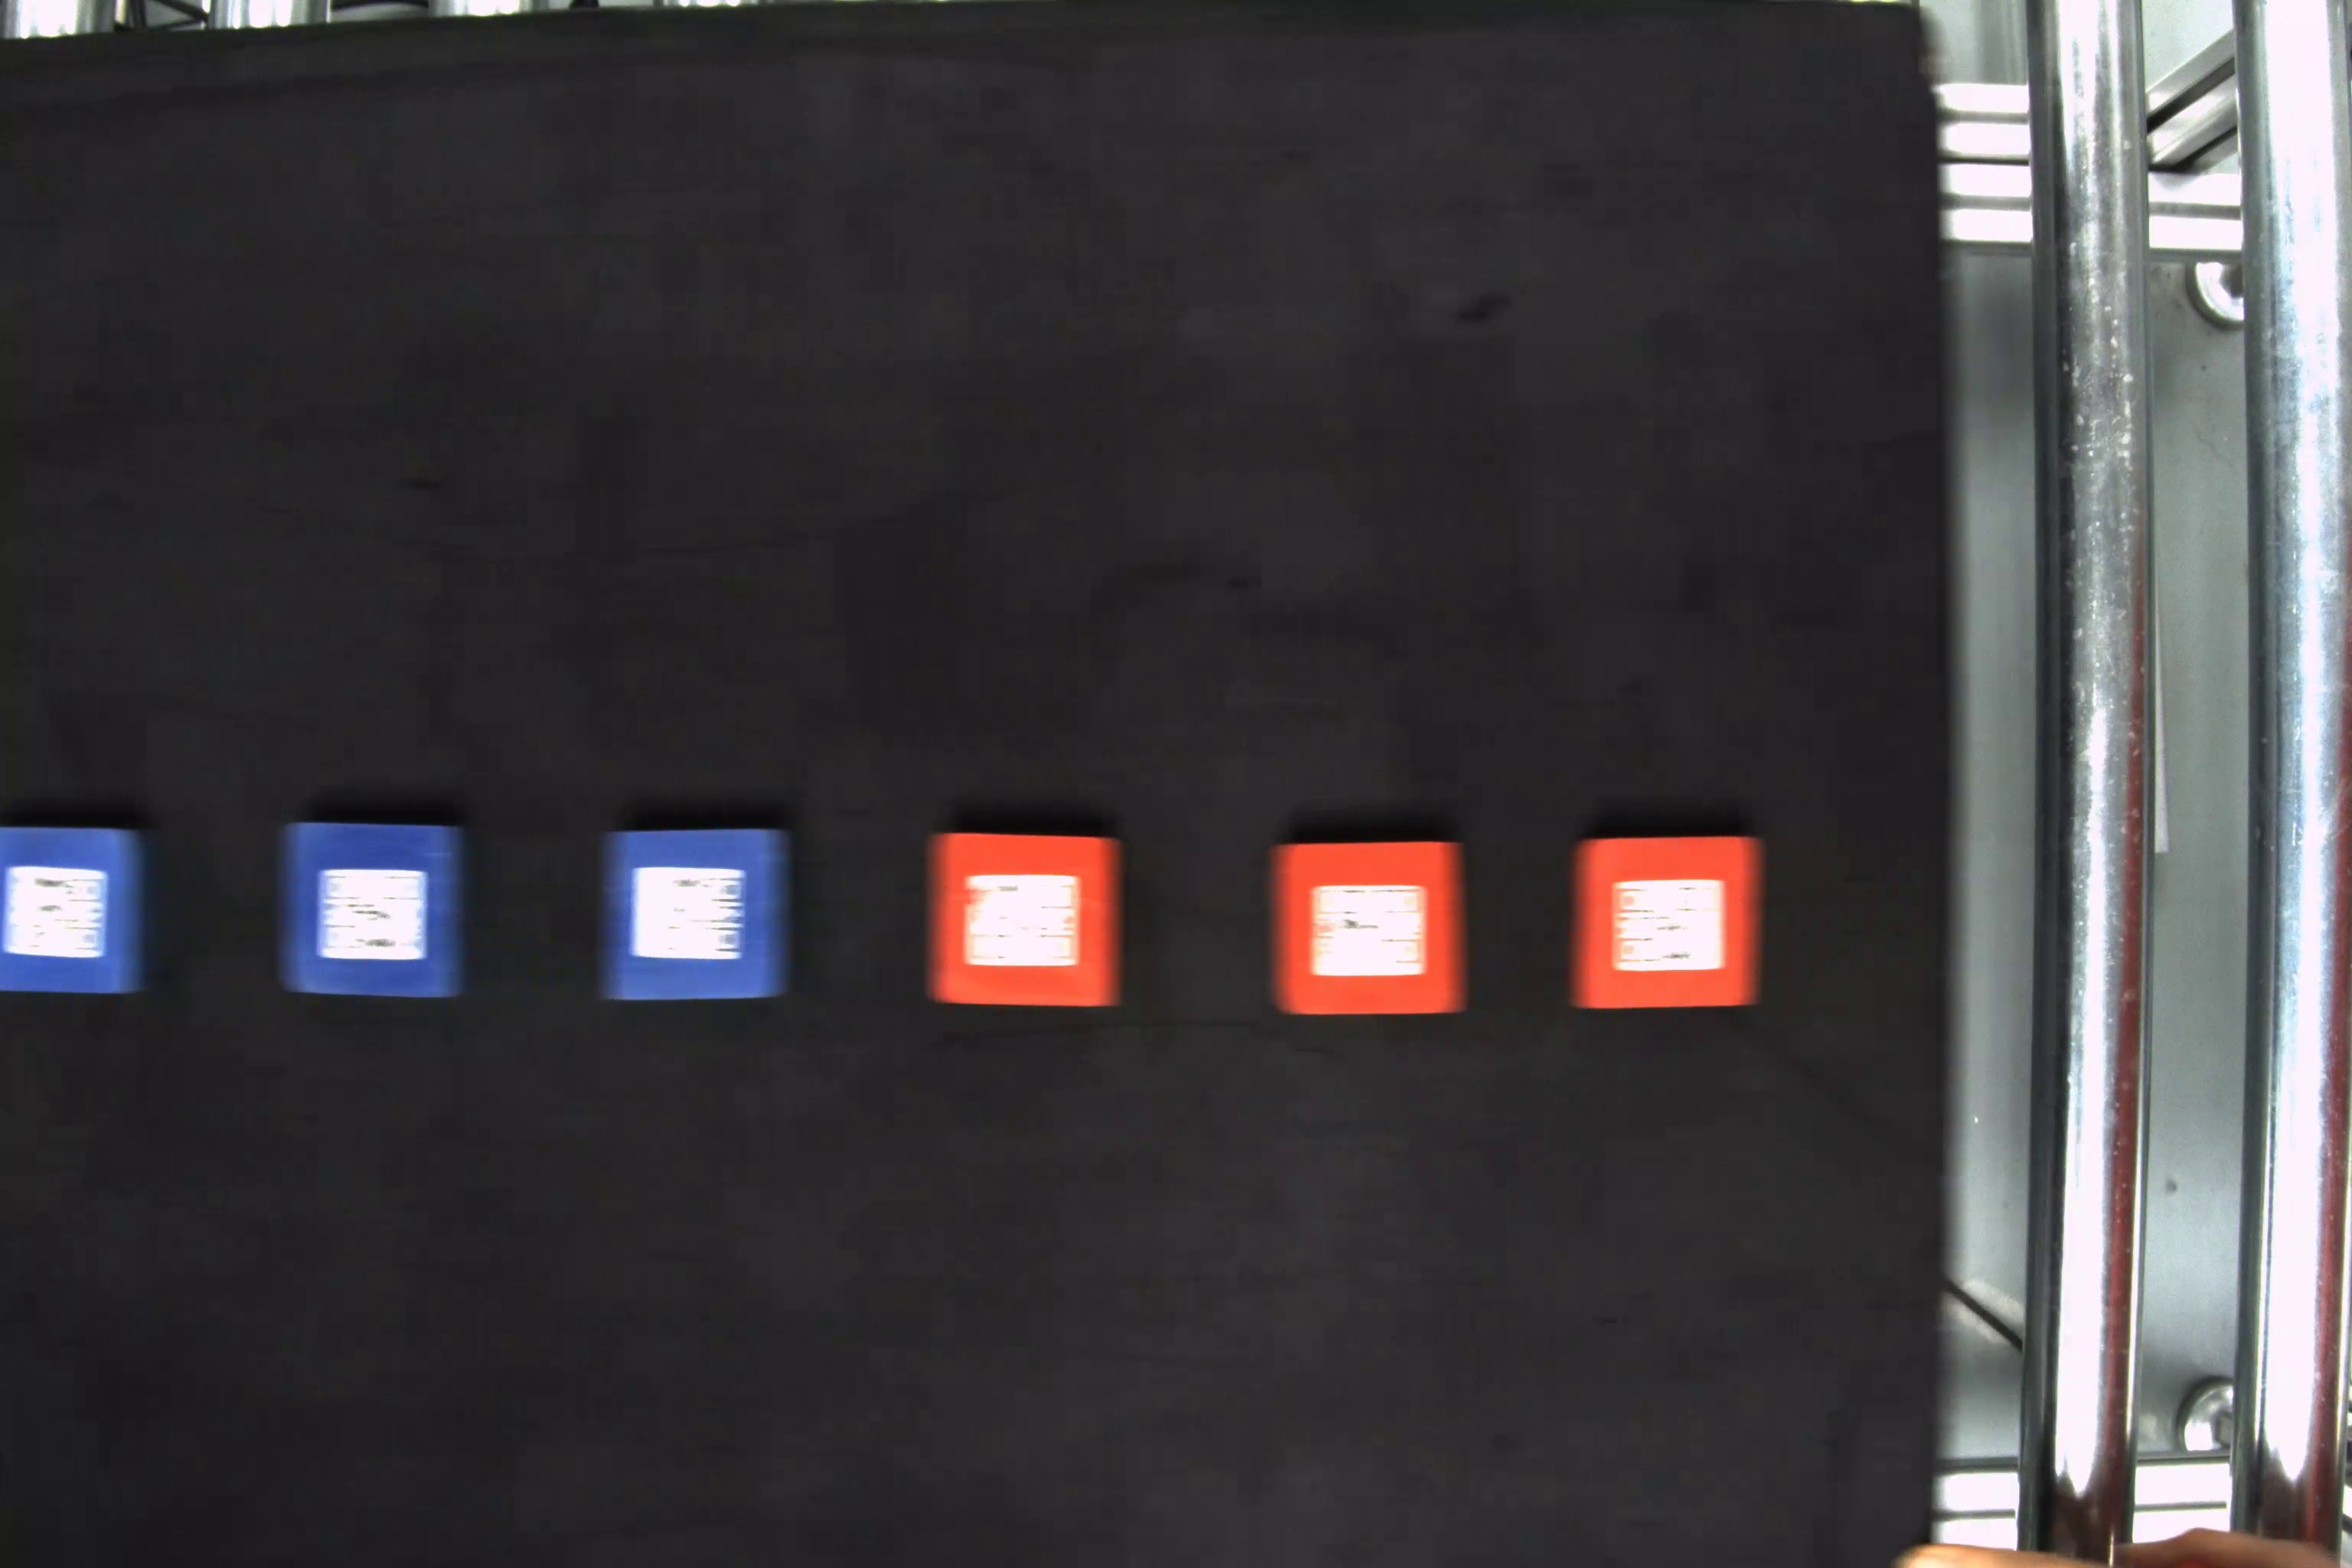wood: (924, 822, 1127, 1011), (1267, 836, 1477, 1015), (595, 826, 800, 1006), (1568, 835, 1773, 1015), (276, 819, 469, 1001), (0, 817, 157, 1003)
